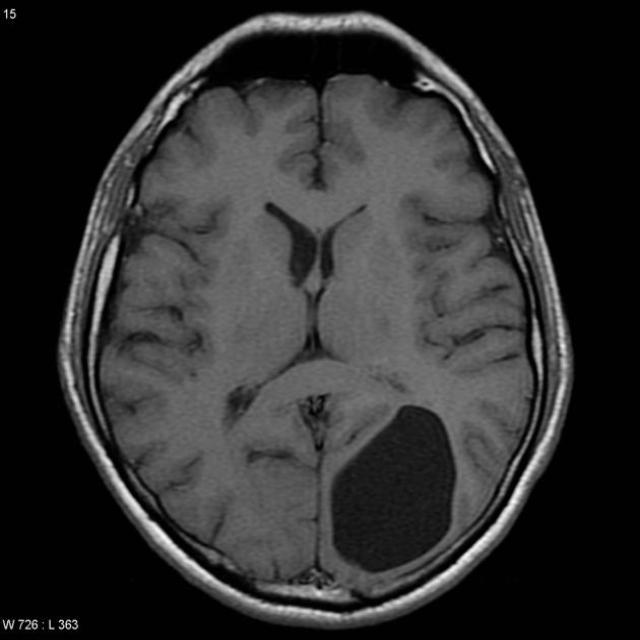notumor: (56, 13, 575, 635)
